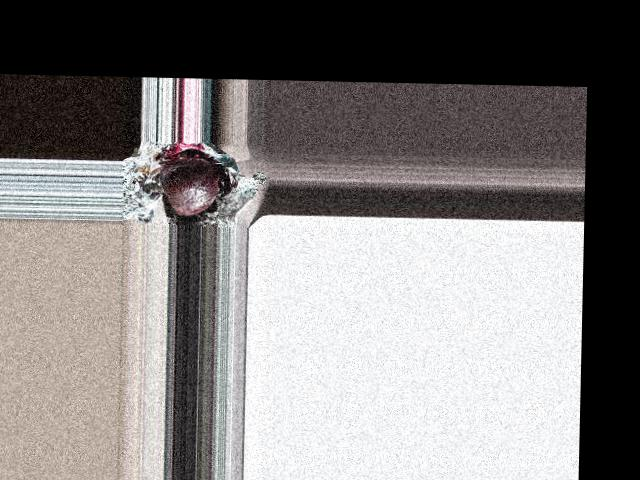beet: (158, 159, 219, 216)
